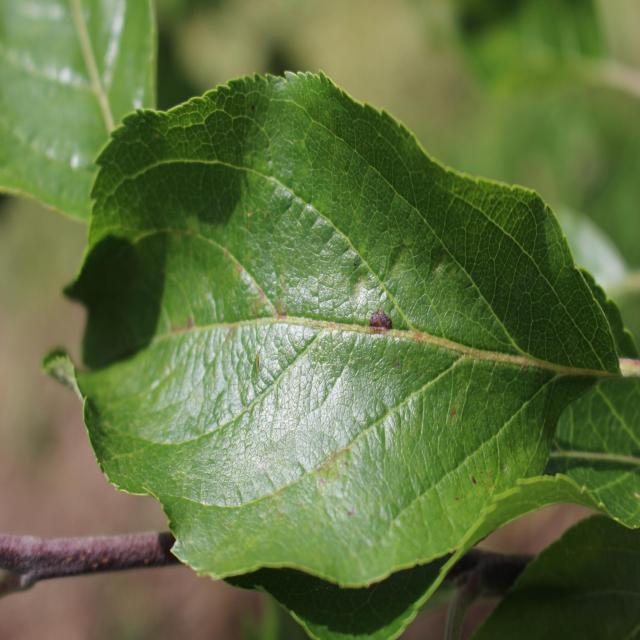Black Rot: (361, 311, 406, 355)
scab: (108, 182, 522, 485)
